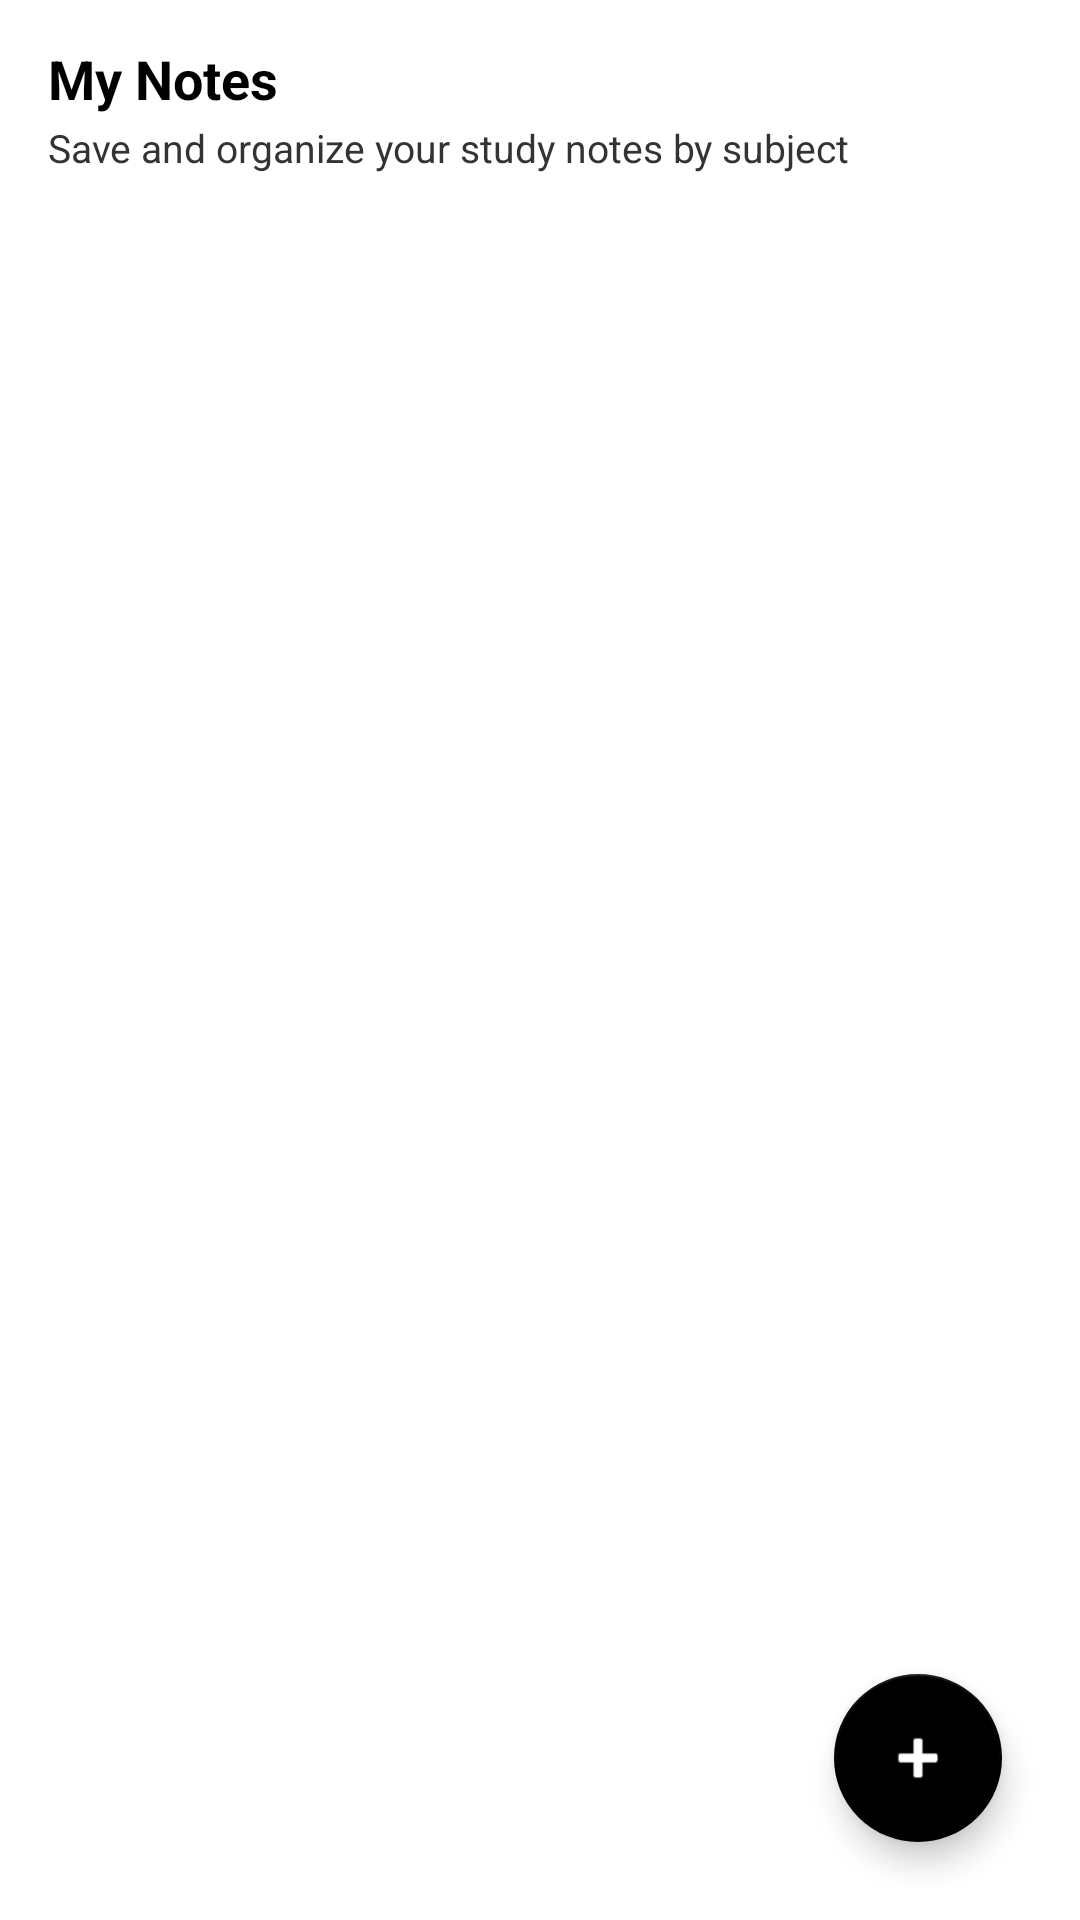

Screen size 1080 × 1920. Icon name, then its center in pixels as [x,y]:
Add Note: [918,1758]
